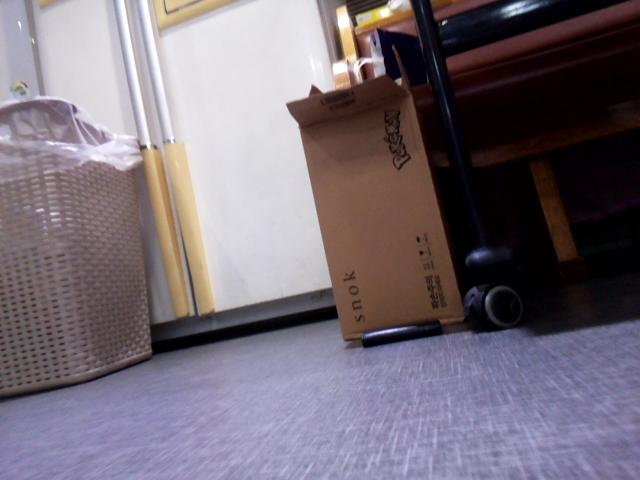wallet: (350, 313, 452, 349)
